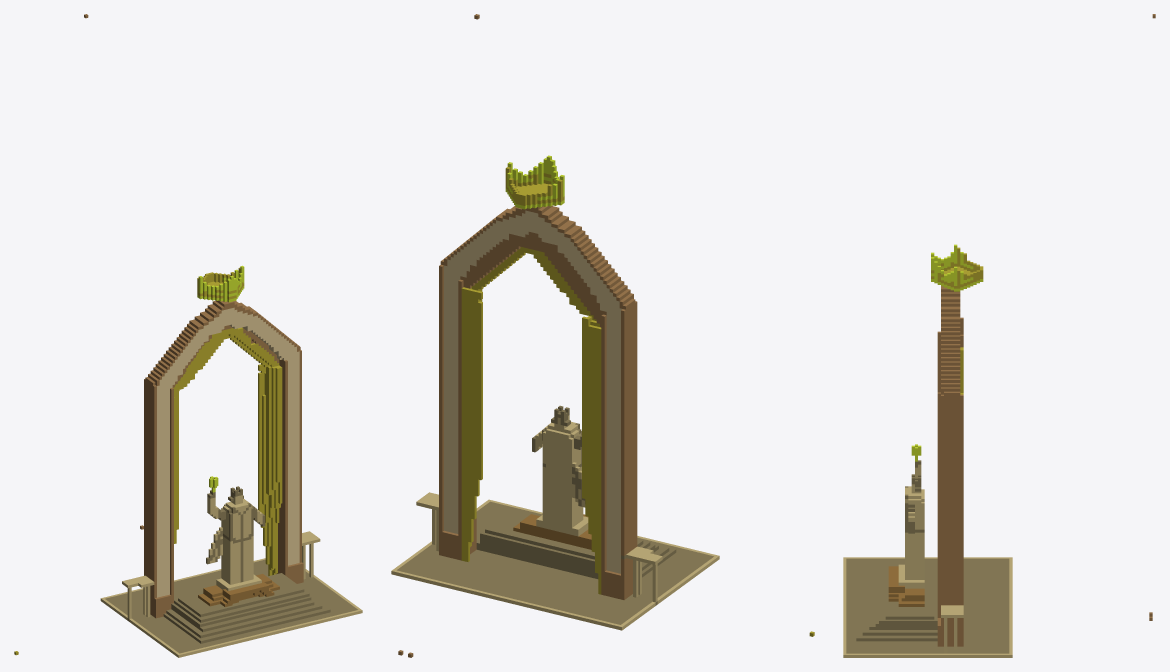
Rendered from ismoil.obj.
The picture shows the model from 3 angles, left to right: view 1: azimuth 30°, elevation 25°; view 2: azimuth 150°, elevation 25°; view 3: azimuth 270°, elevation 25°; orthographic projection. The views are drawn at different scales.
Size of the model in its own units: 11.8 by 19.4 by 9.6.
1 material, 1 textured.
